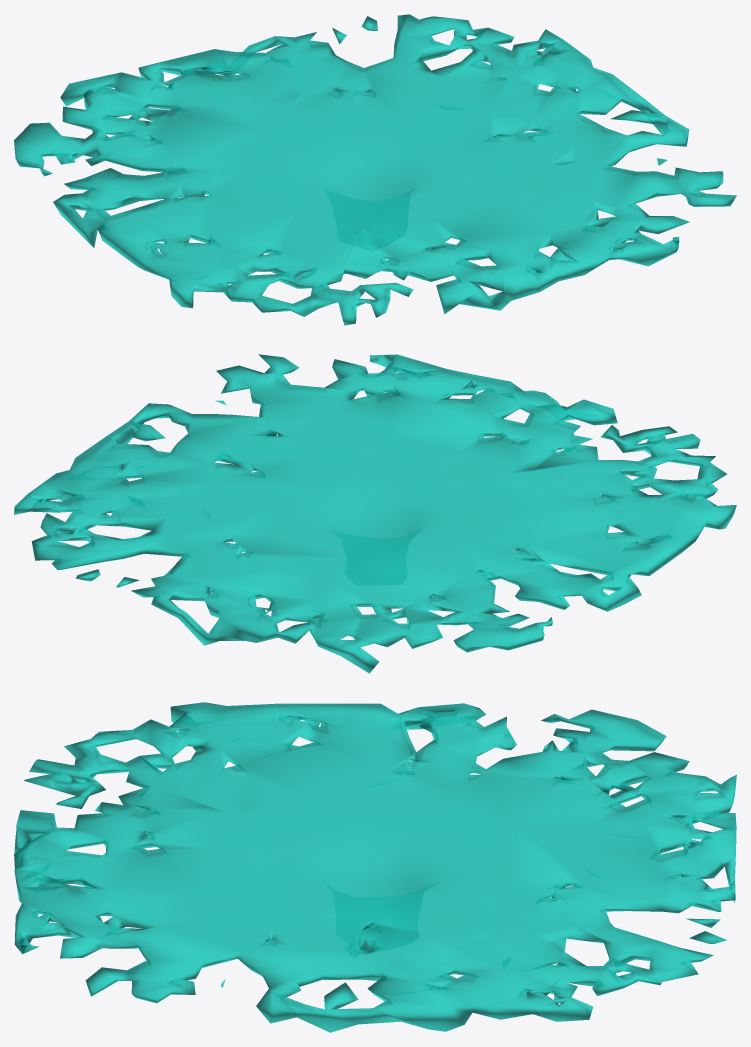
The picture shows the model from 3 angles, top to bottom: view 1: azimuth 30°, elevation 25°; view 2: azimuth 150°, elevation 25°; view 3: azimuth 270°, elevation 25°; orthographic projection. The views are drawn at different scales.
Visible parts, largest first — view 1: Liquid_Domain; view 2: Liquid_Domain; view 3: Liquid_Domain.
Boxes of the visible parts, x1=… form: Liquid_Domain: x1=14, y1=14, x2=736, y2=325; Liquid_Domain: x1=14, y1=354, x2=736, y2=673; Liquid_Domain: x1=14, y1=702, x2=736, y2=1032.
Bounding box in the file's own units: 390 × 51.25 × 390.
